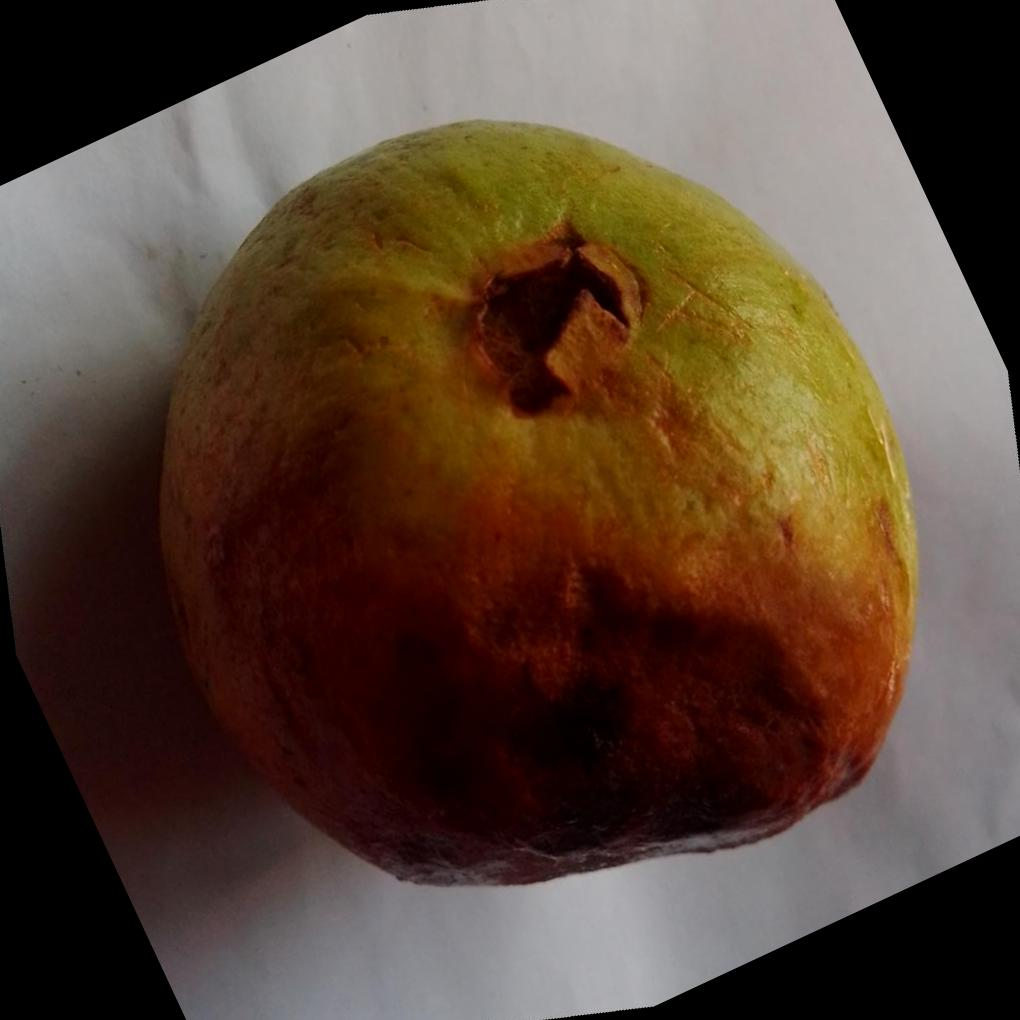FreshOrange: (150, 118, 918, 891)
